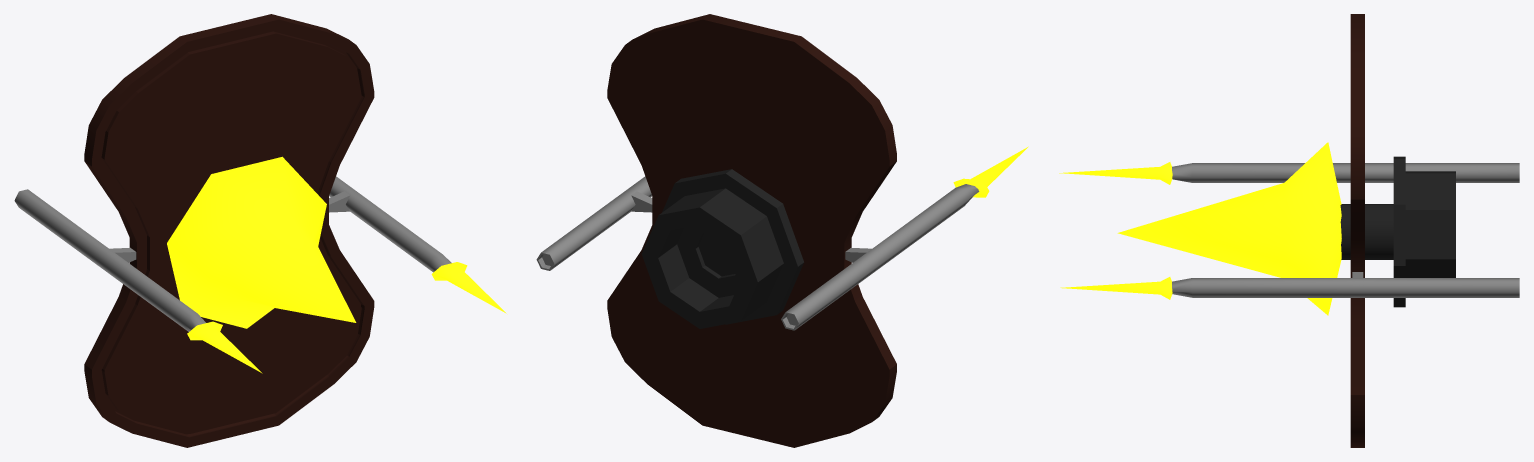
The model's file is Enemie01_Mapa04.FBX.
3 renders of one model, left to right at view 1: azimuth 30°, elevation 25°; view 2: azimuth 150°, elevation 25°; view 3: azimuth 270°, elevation 25°, orthographic. The views are drawn at different scales.
Visible parts, largest first — view 1: Object001, Sphere001, Object002, Box001; view 2: Object001, Cylinder001, Object002, Box001; view 3: Sphere001, Object002, Cylinder001, Object001, Box001.
Boxes of the visible parts, x1,y1,x2,y2 form: Object001: [84, 14, 374, 447]; Sphere001: [167, 156, 356, 328]; Object002: [14, 176, 451, 331]; Box001: [187, 262, 506, 373]; Object001: [607, 14, 896, 447]; Cylinder001: [641, 169, 804, 328]; Object002: [536, 176, 979, 330]; Box001: [953, 146, 1028, 197]; Sphere001: [1117, 142, 1341, 315]; Object002: [1172, 163, 1519, 297]; Cylinder001: [1340, 156, 1455, 307]; Object001: [1350, 14, 1364, 447]; Box001: [1059, 162, 1172, 299].
Size of the model in its own units: 115 by 159 by 170.
